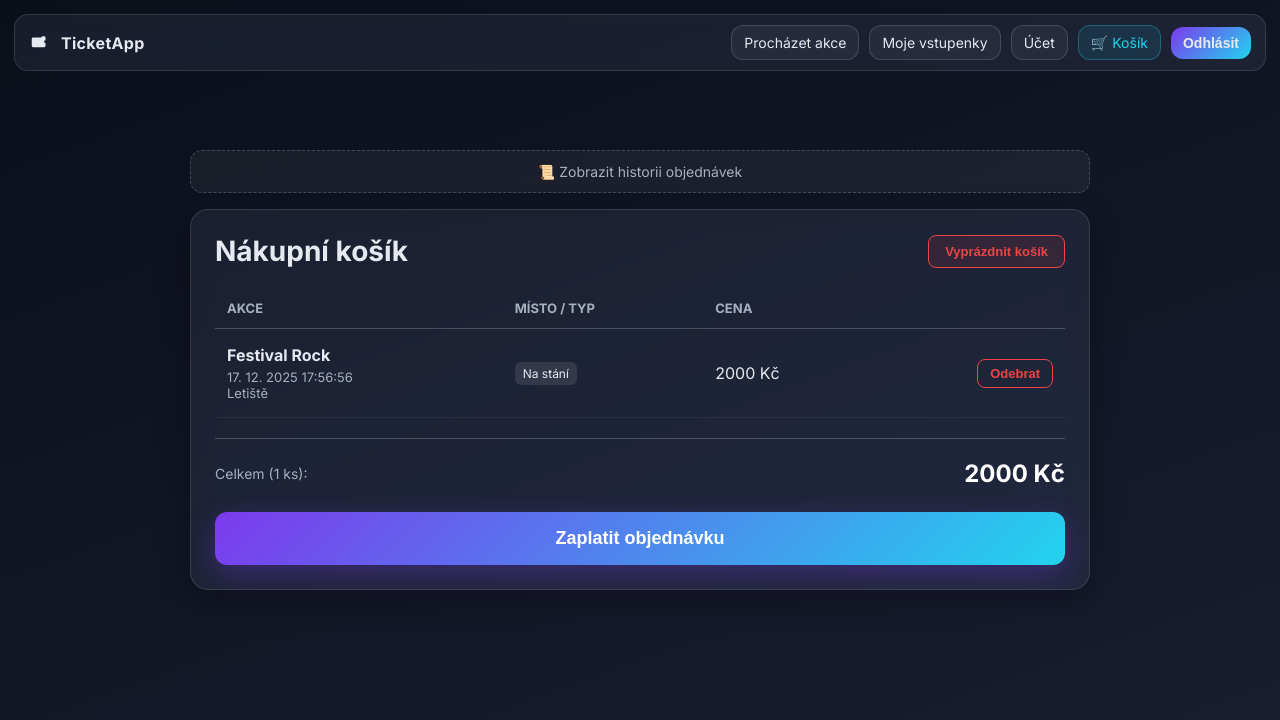
Scenario: Nákupní proces (User Flow) › Košík: Odebrání položky
Check: the text "Festival Rock" is shown, box 227,345 -> 330,365
Kliknutí na odebrat (Cypress automaticky potvrdí alert)
Click the button "Odebrat" at (1015, 374), box 977,359 -> 1053,388
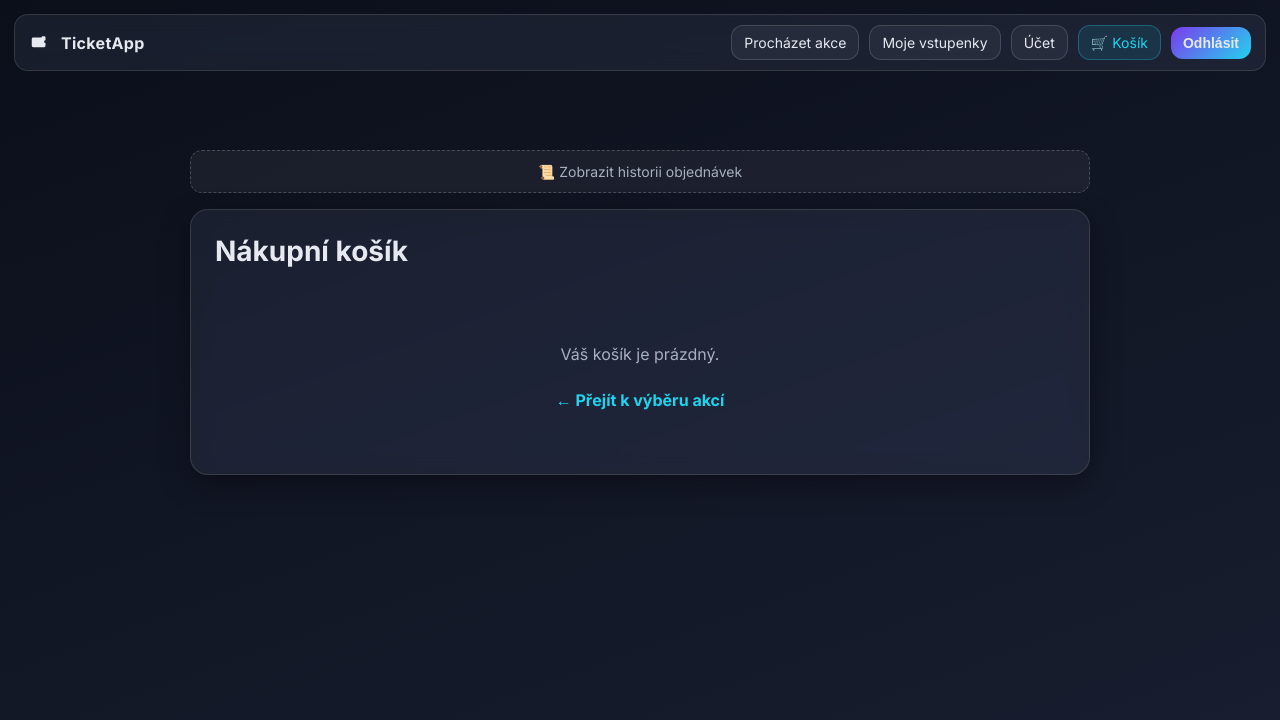
Check: the text "Váš košík je prázdný" is shown, box 561,344 -> 720,364
